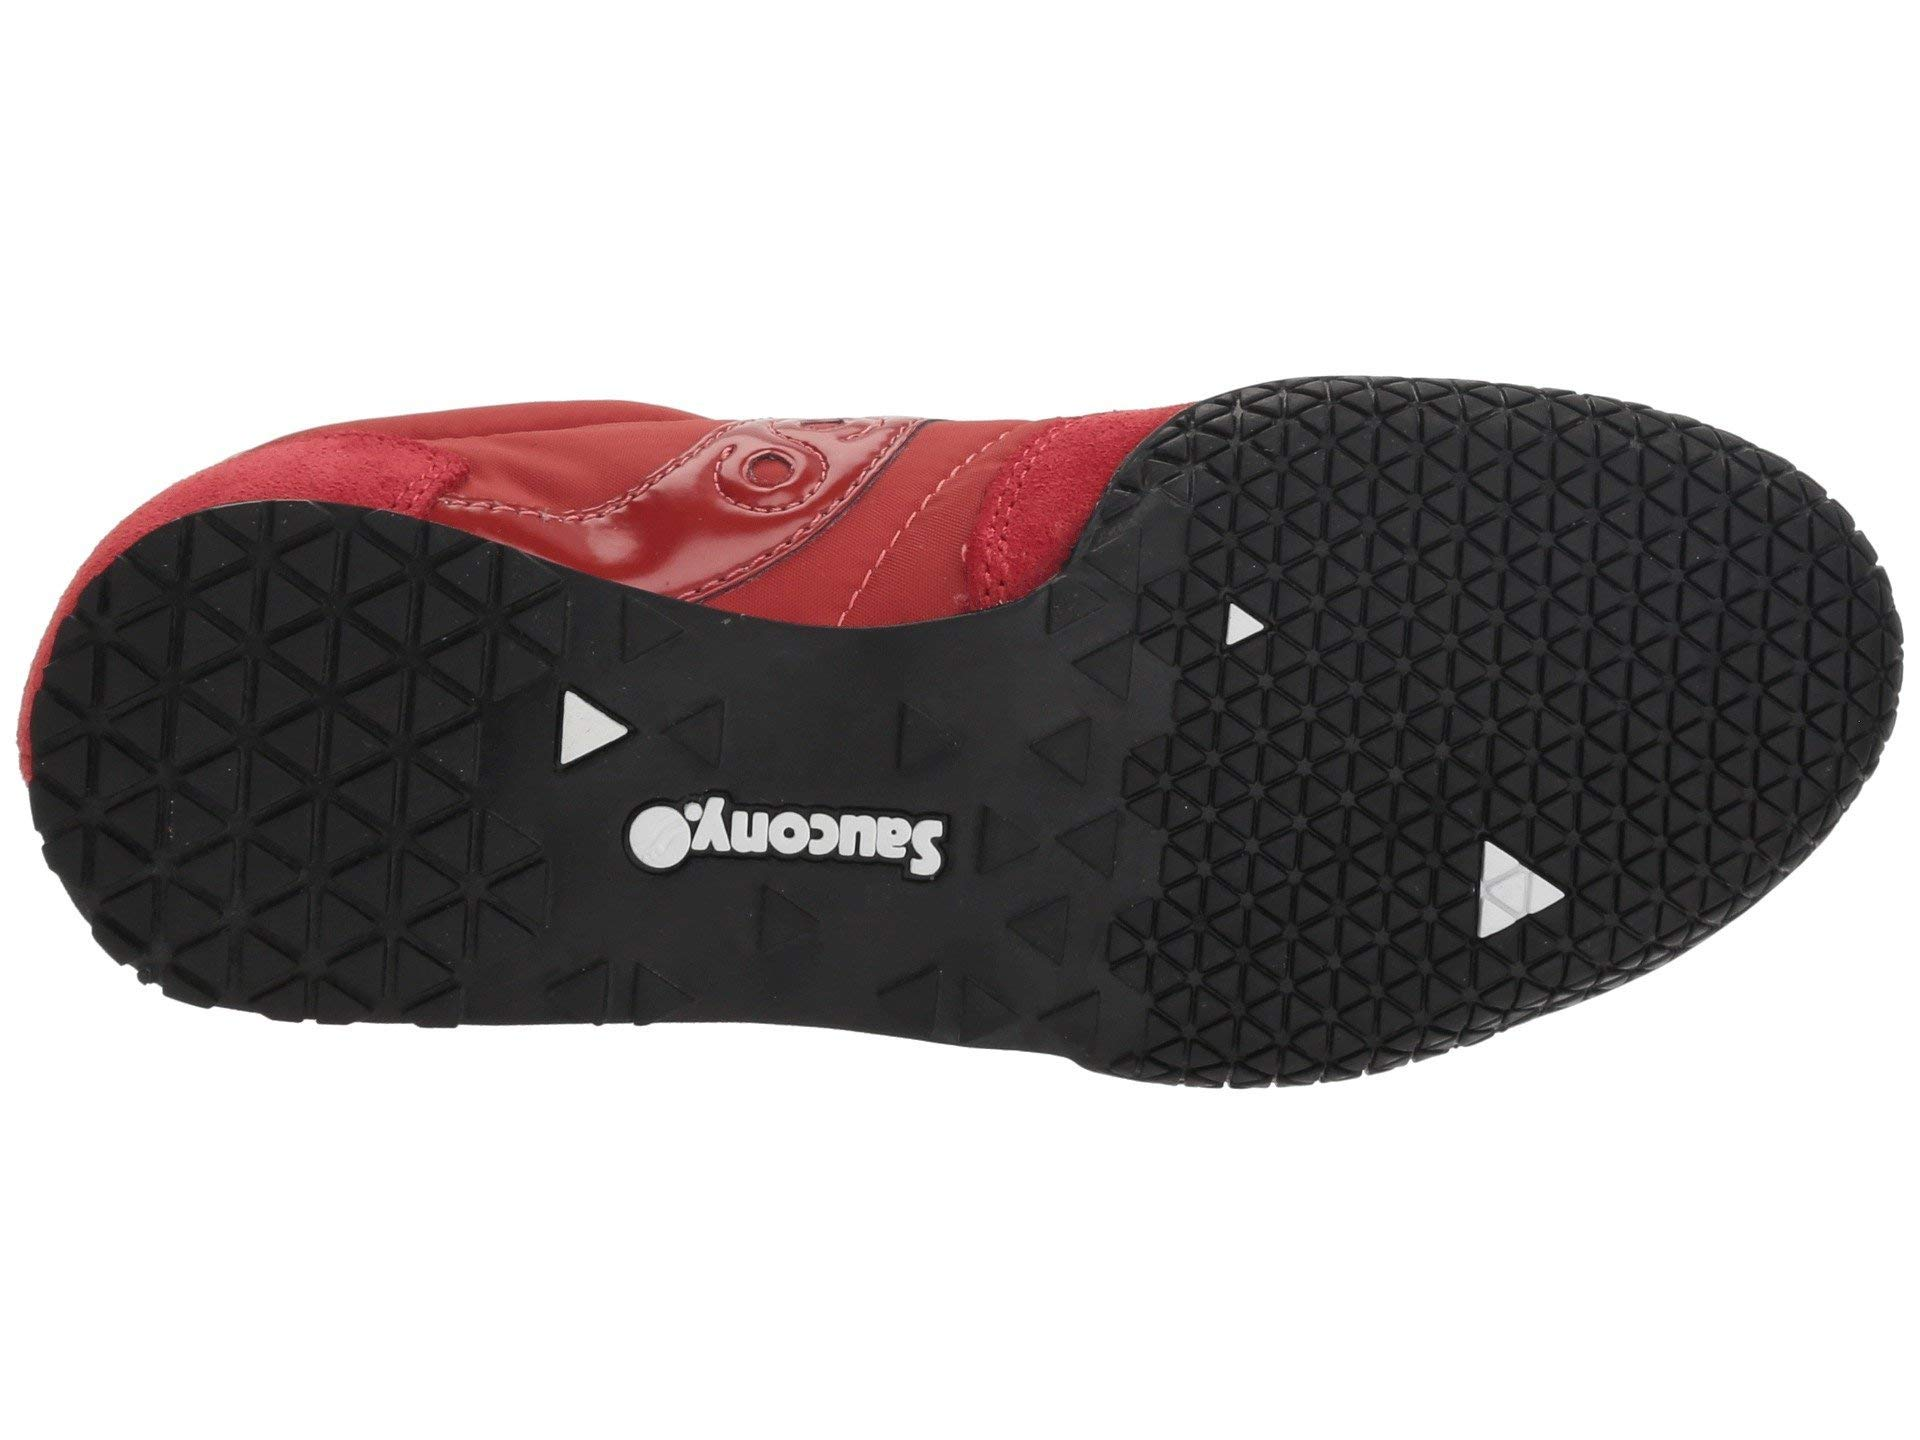circle: (621, 755, 977, 1023)
text: (621, 755, 977, 1023)
triangle: (1388, 501, 1739, 868), (121, 591, 408, 892), (1166, 790, 1388, 1012), (466, 604, 668, 794), (1158, 483, 1344, 673)
